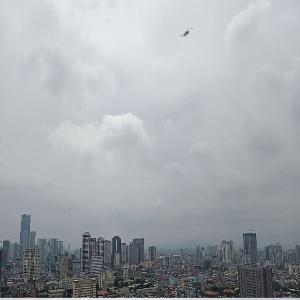drone: (161, 4, 219, 62)
